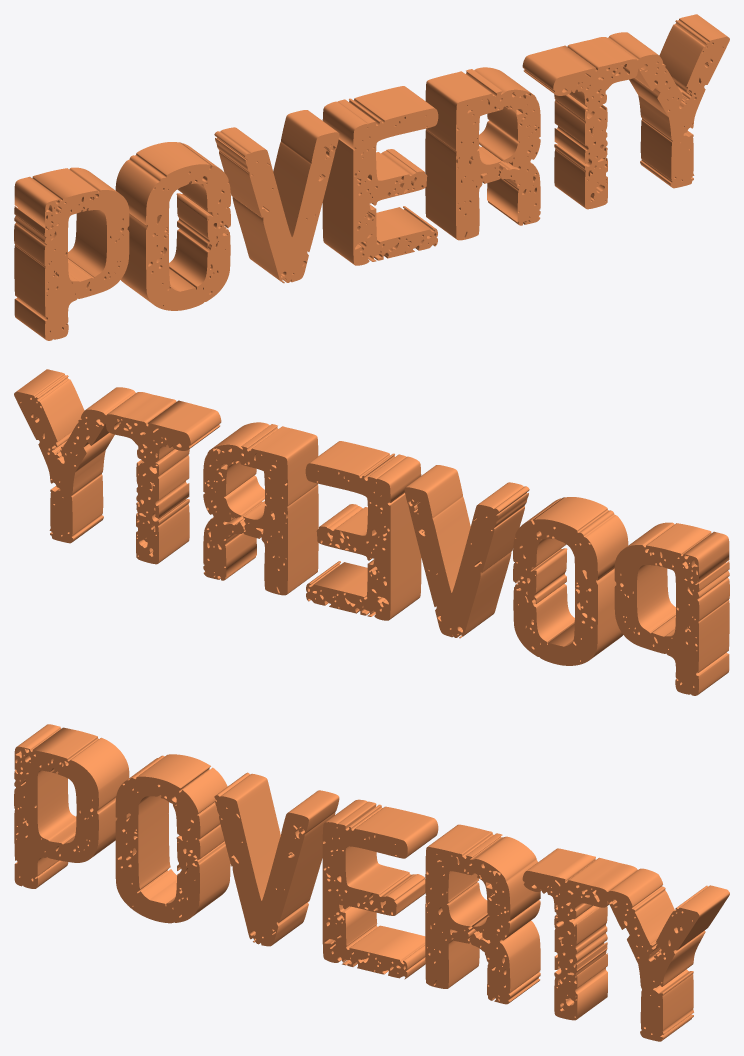
The model's file is poverty-text.fbx.
The picture shows the model from 3 angles, top to bottom: view 1: azimuth 30°, elevation 25°; view 2: azimuth 150°, elevation 25°; view 3: azimuth 330°, elevation 25°; orthographic projection.
Parts seen in each view (by area): view 1: Text; view 2: Text; view 3: Text.
Part boxes in pixels (left/top/right/bottom): Text: left=14, top=14, right=729, bottom=340; Text: left=14, top=369, right=729, bottom=695; Text: left=14, top=724, right=729, bottom=1041.
Size of the model in its own units: 311 by 61.9 by 24.
